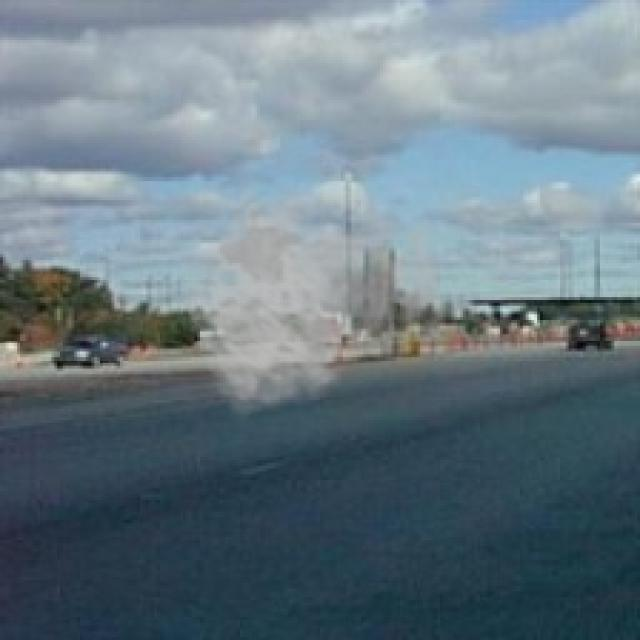Smoke: (183, 174, 463, 420)
